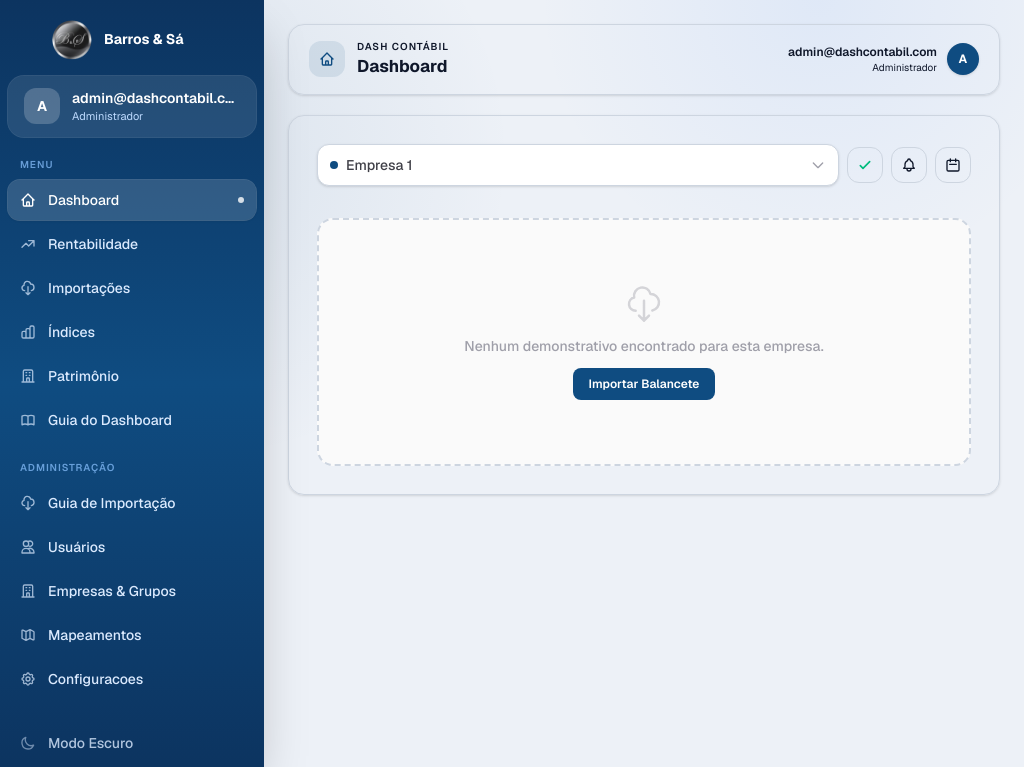
Test: Home dashboard › shows multi-company selector for ADMIN and saves active company on single selection
// Open the company-selection modal
Click the button "Empresa 1" at (379, 164), box [317, 144, 839, 186]
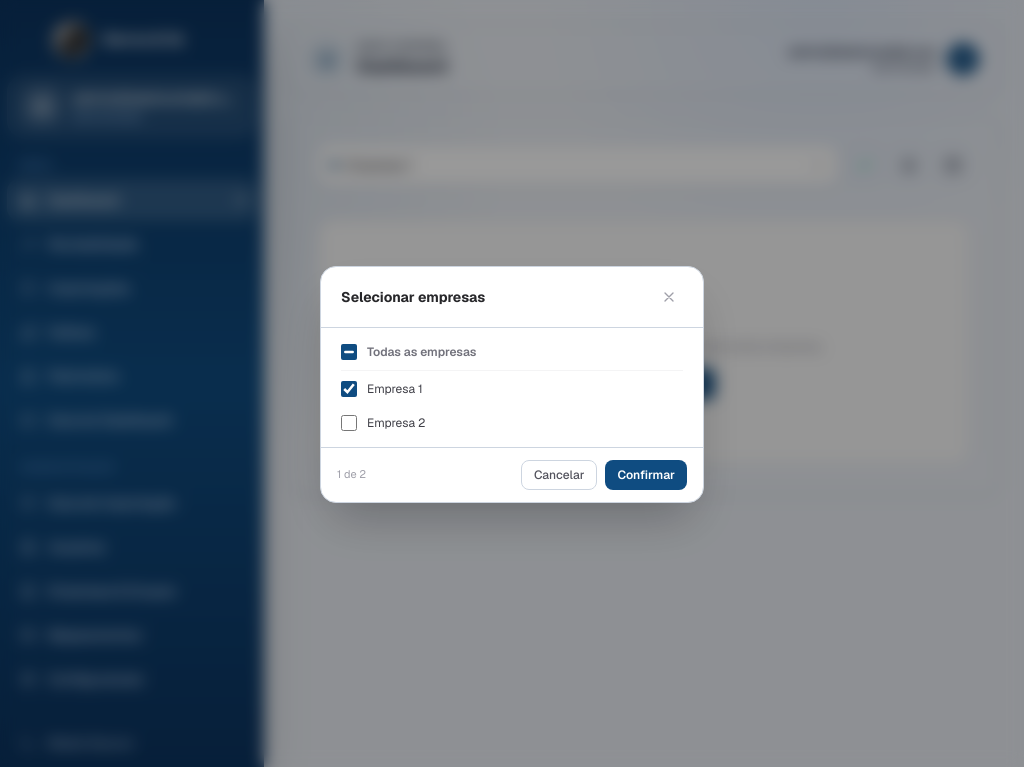
Now the checkbox labelled "Empresa 1" is checked
Click the checkbox labelled "Empresa 1" at (349, 388), box [341, 380, 357, 396]
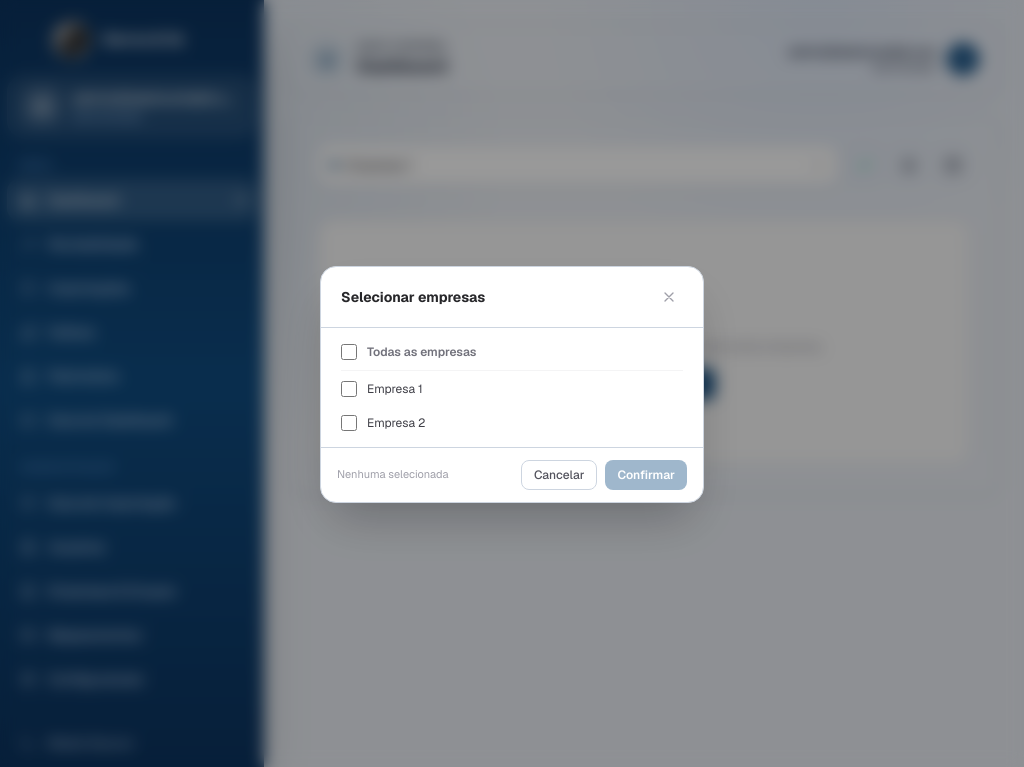
Click the checkbox labelled "Empresa 2" at (349, 422), box [341, 414, 357, 430]
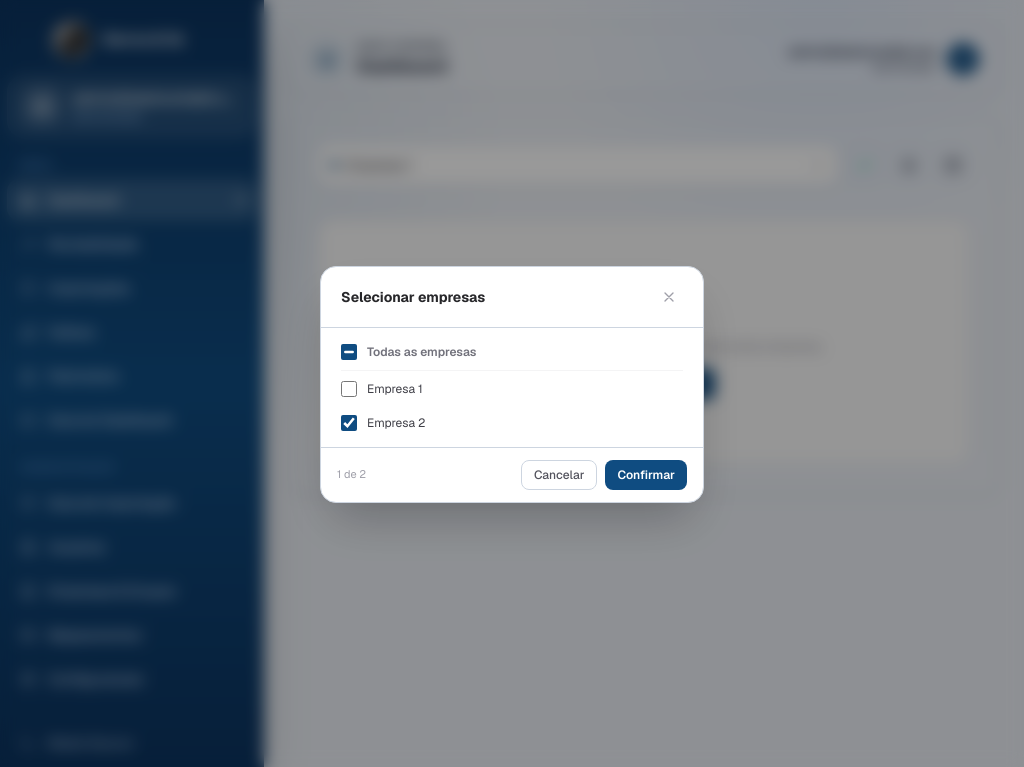
// Confirm changes in the modal
Click the button "Confirmar" at (646, 474), box [605, 460, 687, 490]
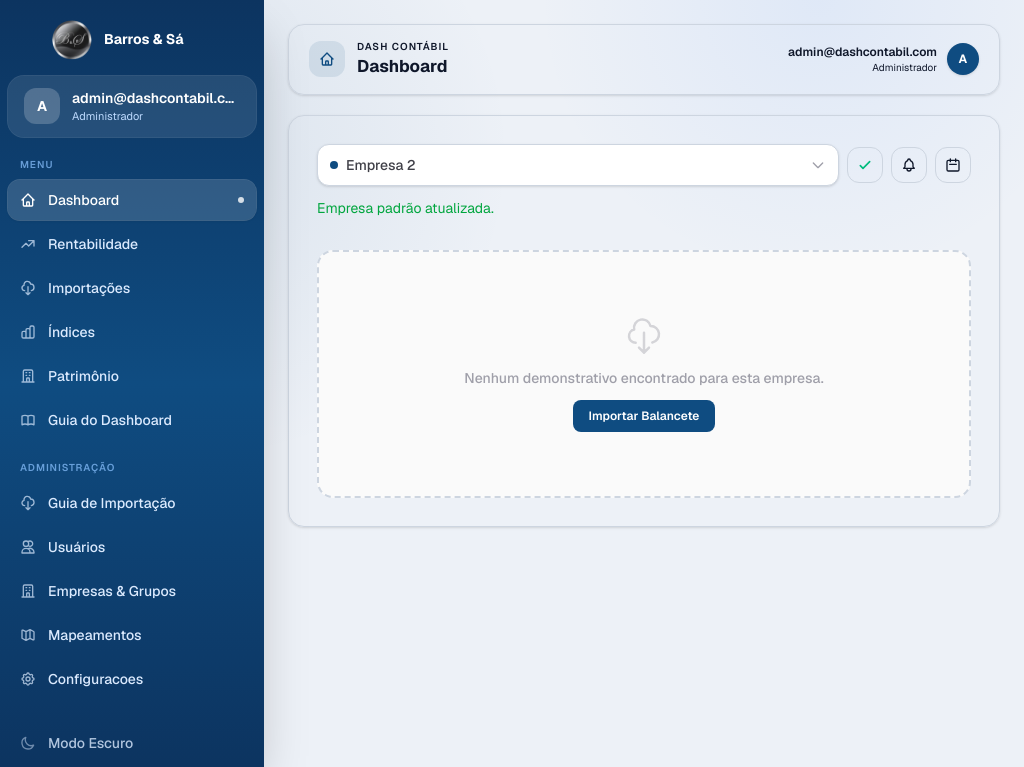
Now the text "Empresa padrão atualizada." is shown, box [317, 198, 494, 216]
